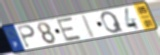4: (124, 7, 141, 31)
8: (37, 22, 57, 45)
E: (56, 16, 83, 42)
I: (81, 13, 97, 40)
P: (17, 24, 38, 49)
Q: (100, 10, 125, 34)
